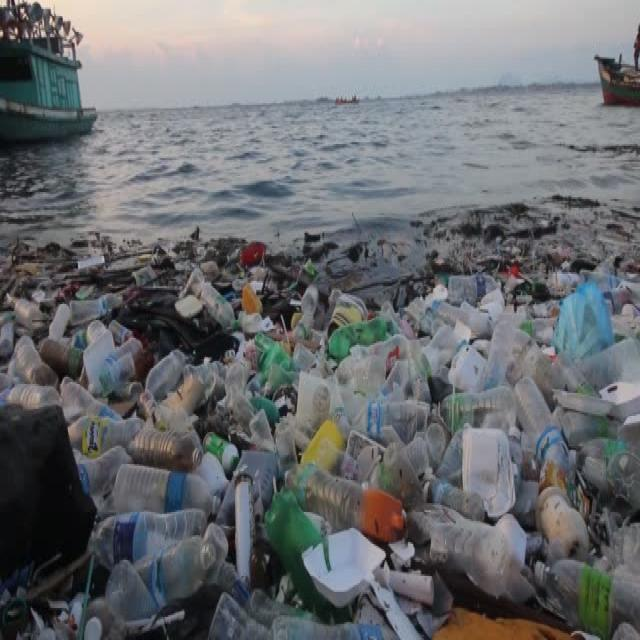plastic: (82, 276, 560, 624)
